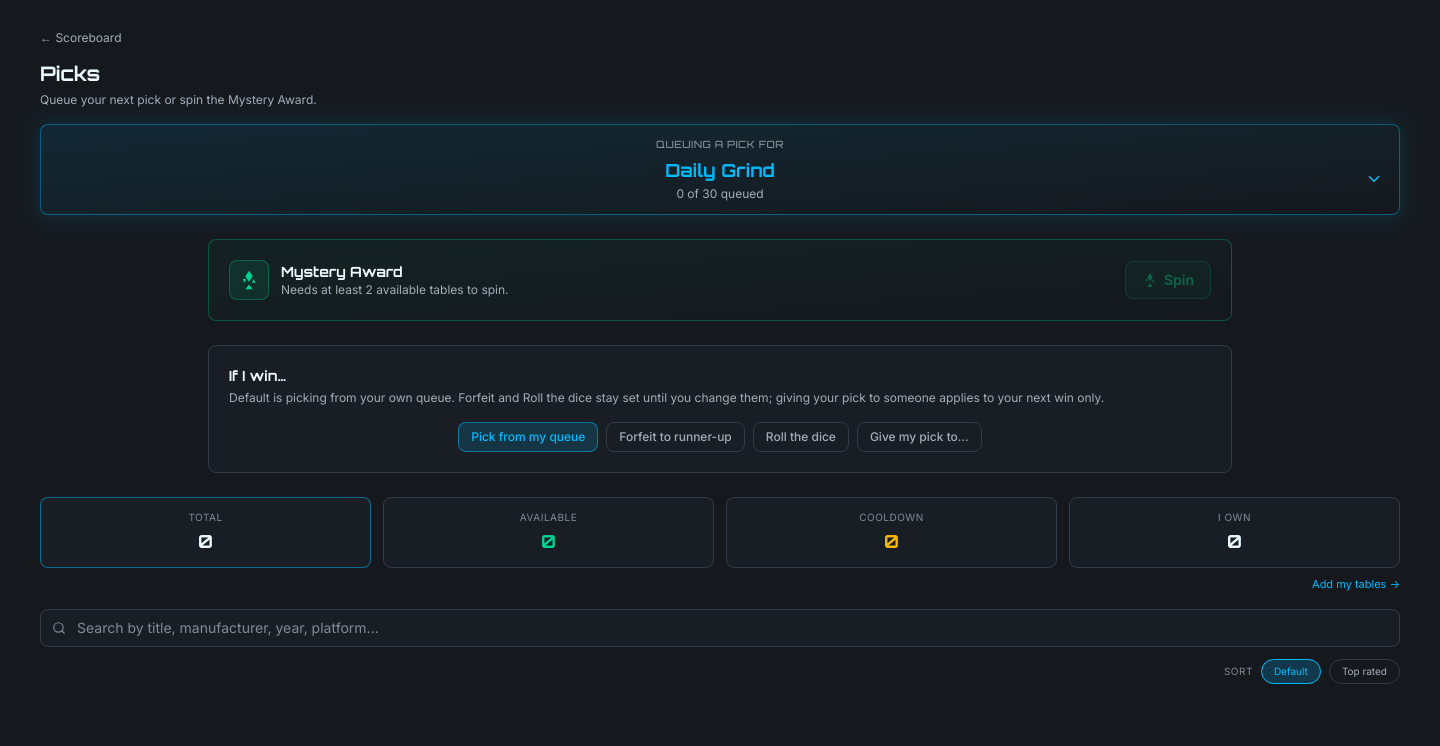
Test: Picks page — next-win disposition control › typeahead: a completed empty search shows the no-matches line
Click the button "Give my pick to…" at (919, 437), box [857,422,982,452]
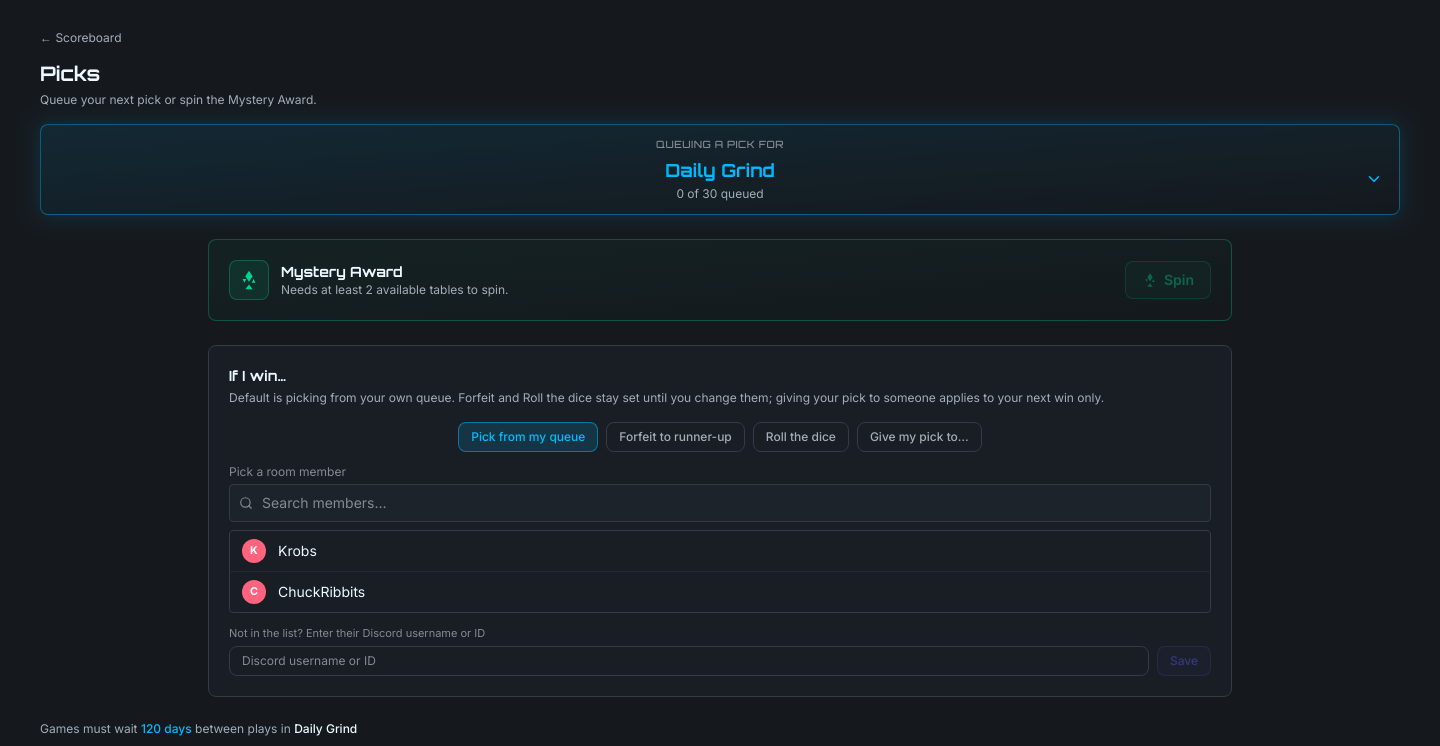
Type "zzzz" into the field named "Nominee Discord username or ID" at (689, 660), box [229,646,1149,676]
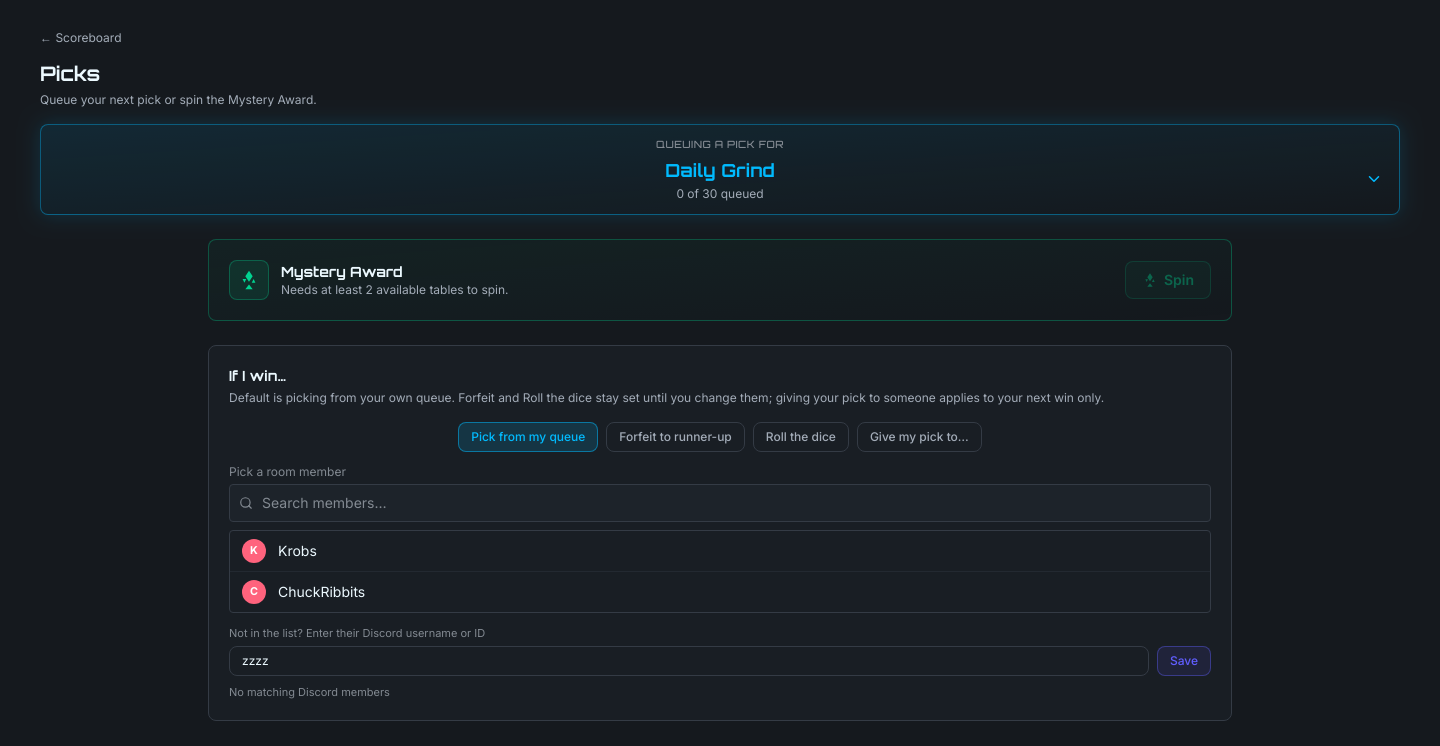
Expected: the text with test id "nominee-typeahead-empty" reads "No matching Discord members", [229,684,390,698]
